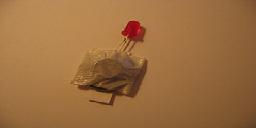LED: (118, 17, 144, 50)
